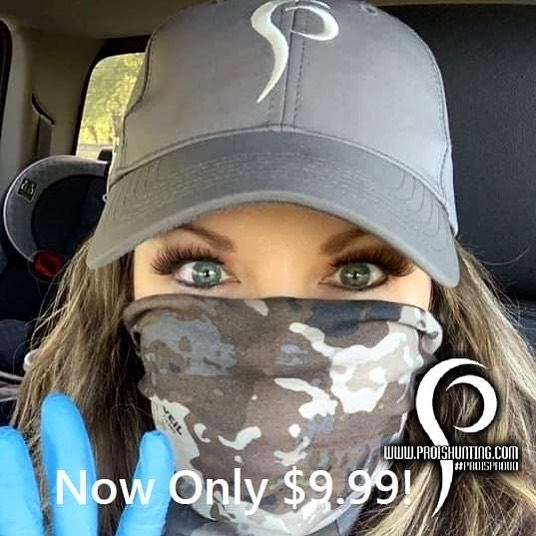homemade: (105, 294, 439, 486)
